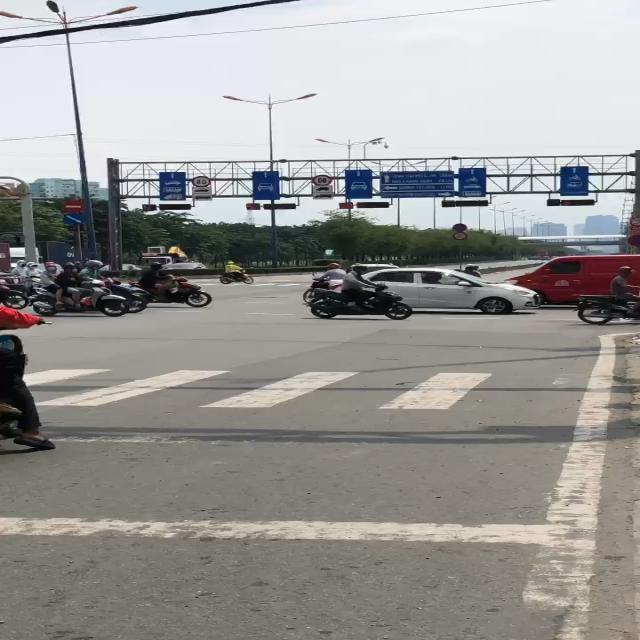Bien bao cam di nguoc chieu: (63, 200, 86, 213)
Bien bao huong phai di vong chuong ngai vat: (62, 212, 87, 225)
Bien bao toc do toi da cho phep: (312, 173, 334, 186), (190, 175, 213, 187)
